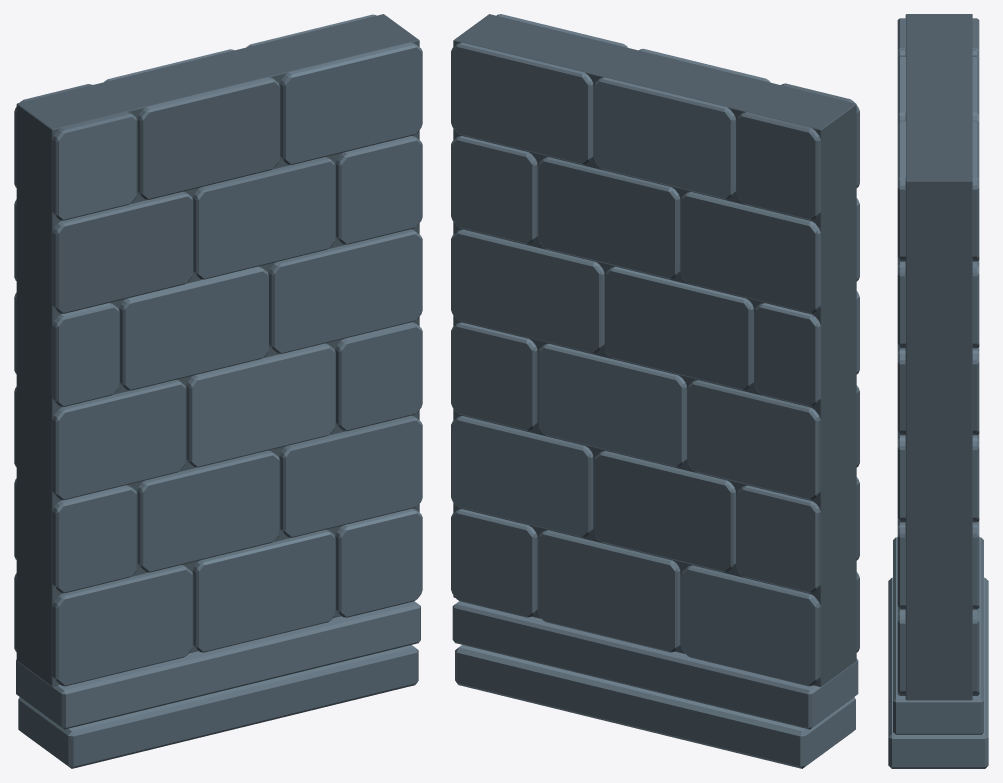
The model's file is QH_Wall_Solid_2m.fbx.
3 views of the same model, side by side, from view 1: azimuth 30°, elevation 25°; view 2: azimuth 150°, elevation 25°; view 3: azimuth 270°, elevation 25° (orthographic). The views are drawn at different scales.
Parts seen in each view (by area): view 1: QH_Wall_Solid_2m; view 2: QH_Wall_Solid_2m; view 3: QH_Wall_Solid_2m.
Part boxes in pixels (x1,y1,x2,y2): QH_Wall_Solid_2m: (14, 14, 422, 768); QH_Wall_Solid_2m: (451, 14, 859, 768); QH_Wall_Solid_2m: (888, 14, 988, 768).
Bounding box in the file's own units: 1.65 × 2.73 × 0.42.
